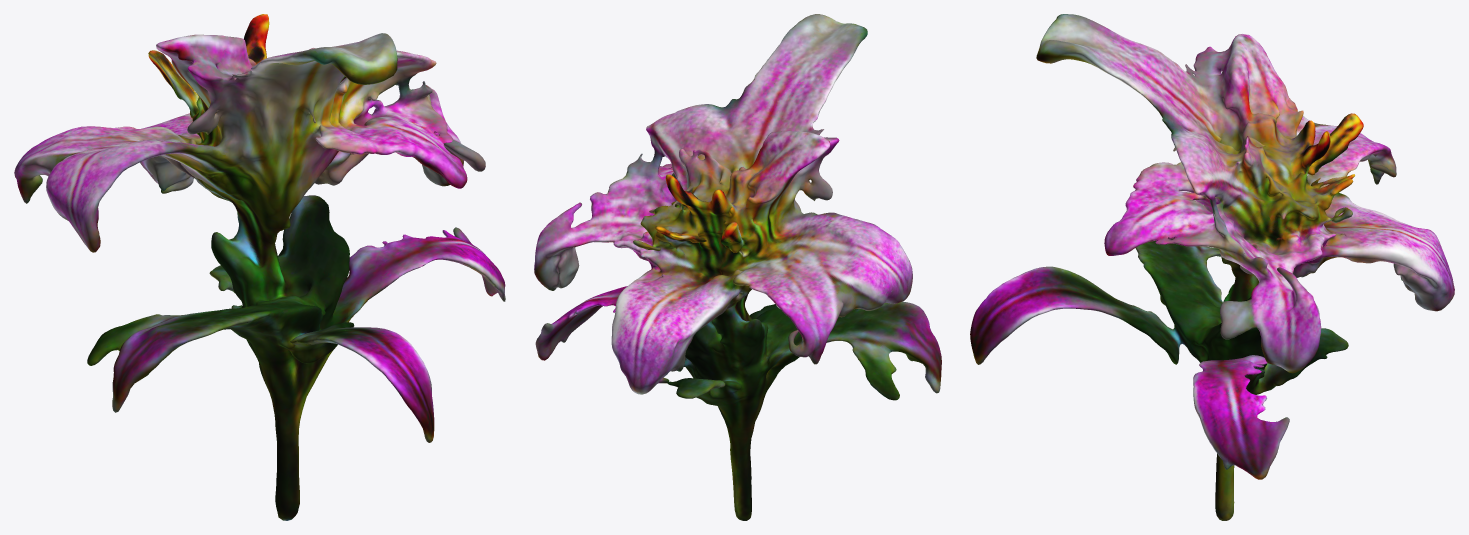
The model's file is lili_flower.glb.
3 views of the same model, side by side, from view 1: azimuth 30°, elevation 25°; view 2: azimuth 150°, elevation 25°; view 3: azimuth 270°, elevation 25° (orthographic). The views are drawn at different scales.
Parts seen in each view (by area): view 1: geometry_0; view 2: geometry_0; view 3: geometry_0.
Part boxes in pixels (x1,y1,x2,y2): geometry_0: [14, 14, 505, 520]; geometry_0: [534, 14, 941, 520]; geometry_0: [970, 14, 1454, 520].
Bounding box in the file's own units: 0.4304 × 0.5186 × 0.4713.
Materials: 1 (1 with a texture image).
